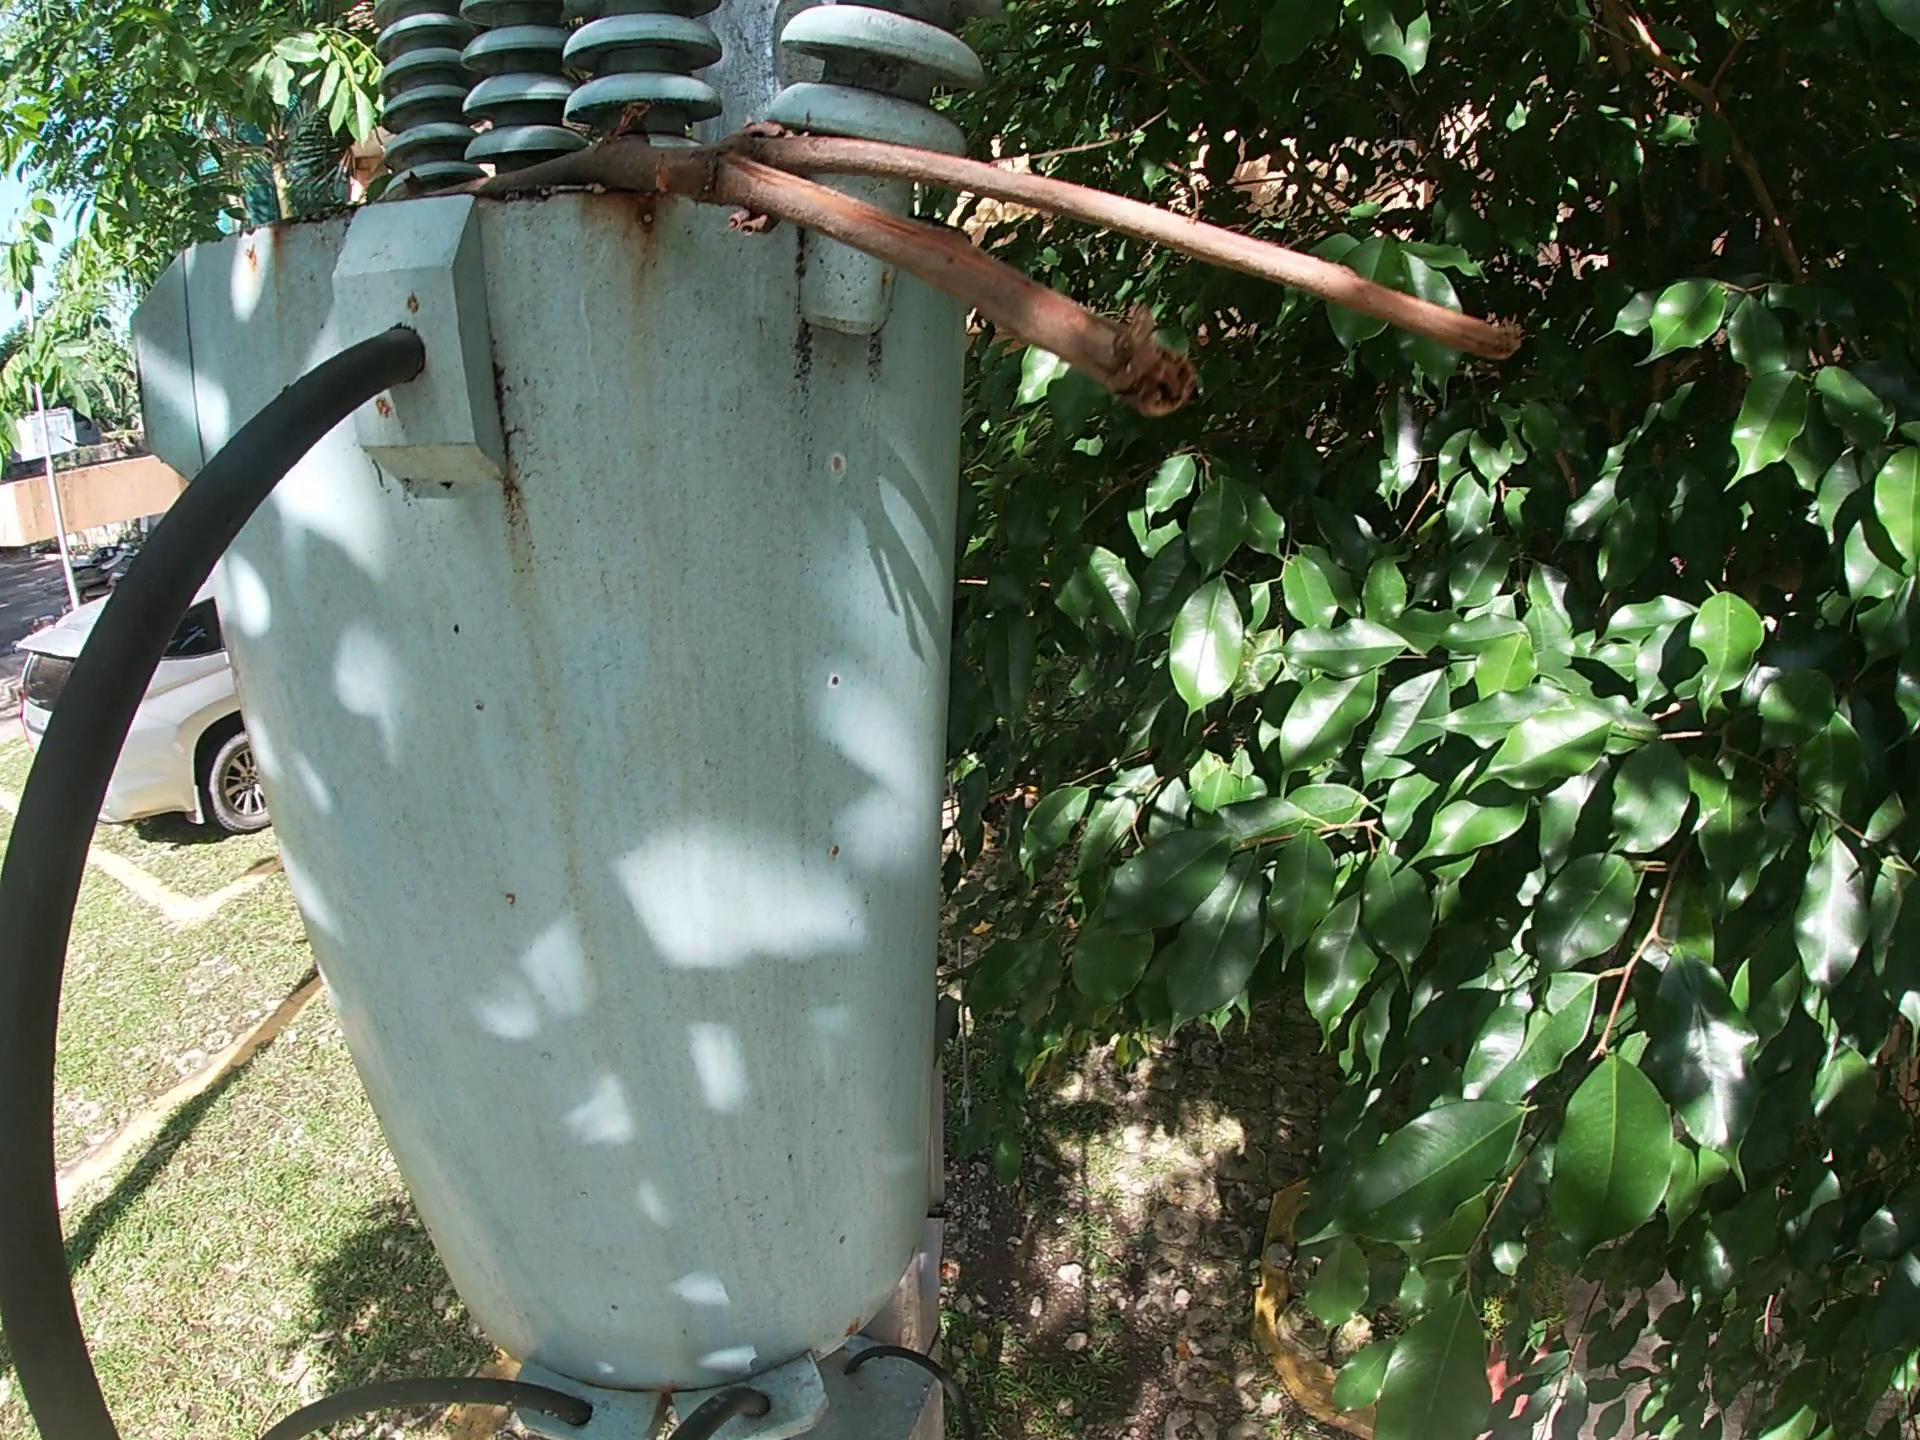tree branch: (393, 98, 1539, 424)
